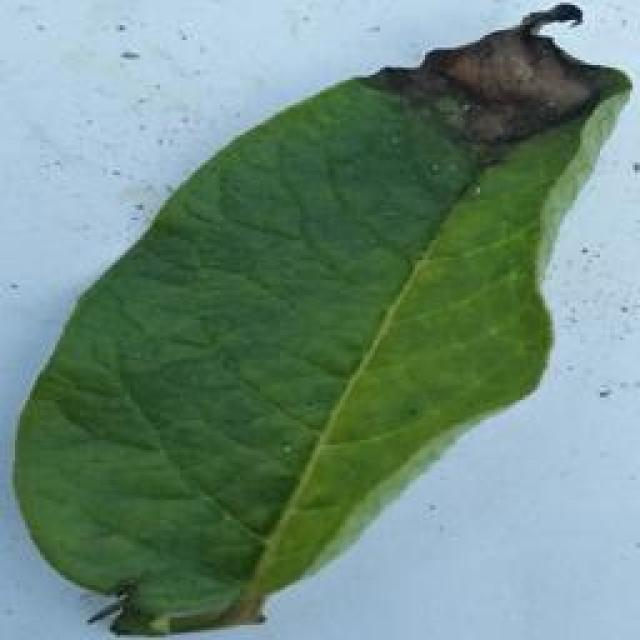Potato_Late_Blight: (12, 15, 616, 631)
